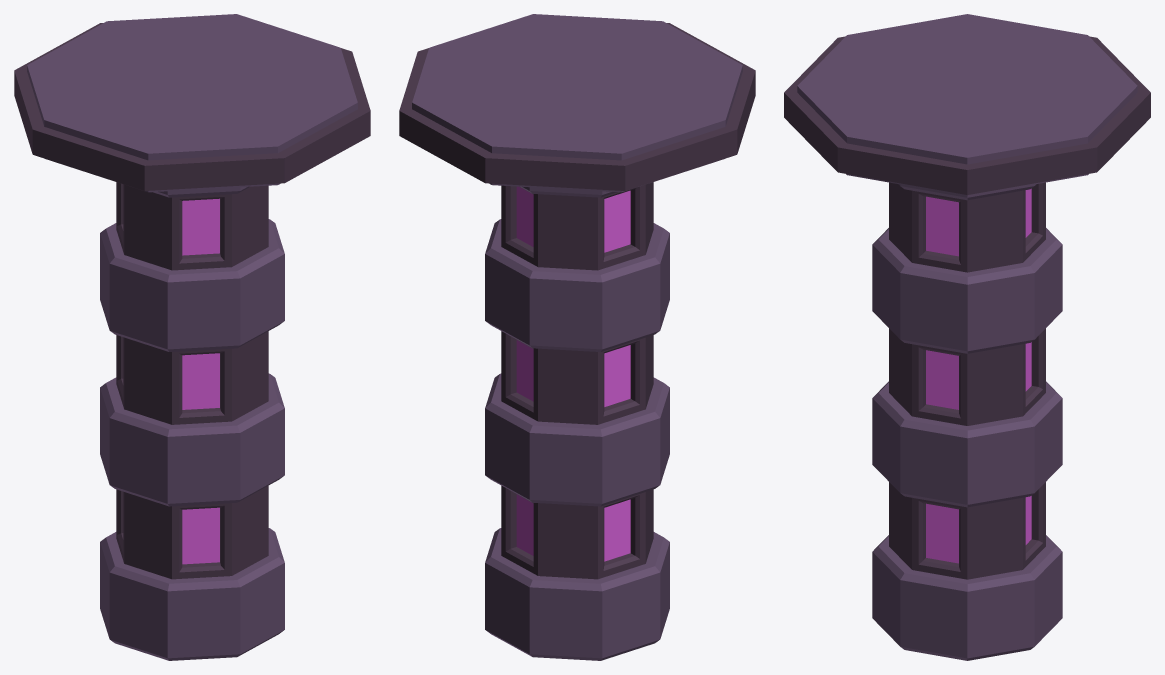
File: POITower.fbx
3 renders of one model, left to right at view 1: azimuth 30°, elevation 25°; view 2: azimuth 150°, elevation 25°; view 3: azimuth 270°, elevation 25°, orthographic.
Visible parts, largest first — view 1: POITower; view 2: POITower; view 3: POITower.
Boxes of the visible parts, <box> form: POITower: <box>14,14,370,660</box>; POITower: <box>399,14,755,660</box>; POITower: <box>784,14,1150,660</box>.
Size of the model in its own units: 3715 by 6005 by 3715.
